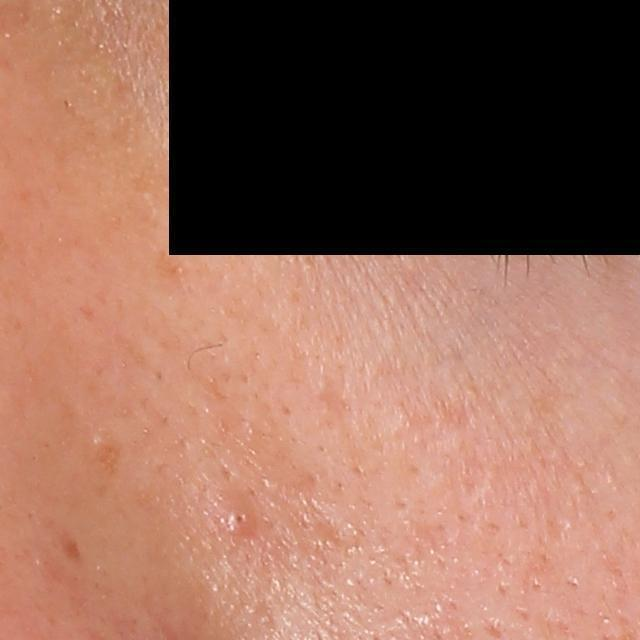comedo: (212, 495, 253, 544)
